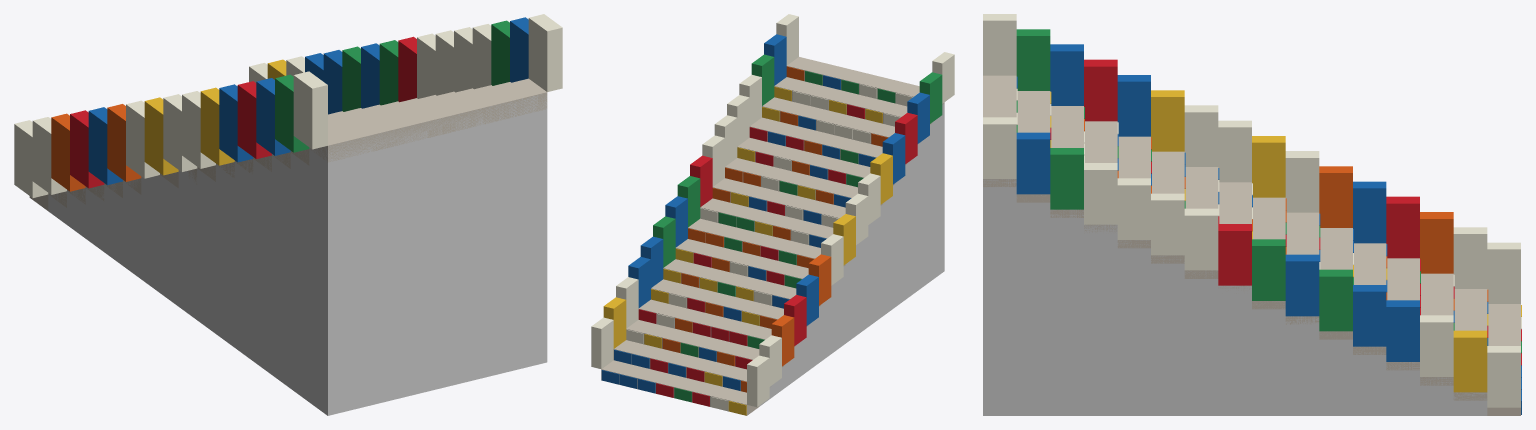
File: escalera_azulejos.glb
The picture shows the model from 3 angles, left to right: view 1: azimuth 30°, elevation 25°; view 2: azimuth 150°, elevation 25°; view 3: azimuth 270°, elevation 25°; orthographic projection. The views are drawn at different scales.
Visible parts, largest first — view 1: COL_15, escalera_azulejos_Malla, COL_14, COL_13, COL_12, COL_11, COL_10, COL_9, COL_8, COL_7, COL_6, COL_5 (+3 smaller); view 2: escalera_azulejos_Malla, COL_15, COL_14, COL_13, COL_12, COL_11, COL_10, COL_9, COL_8, COL_7, COL_6, COL_5 (+2 smaller); view 3: escalera_azulejos_Malla, COL_15, COL_14, COL_13, COL_12, COL_11, COL_10, COL_9, COL_8, COL_7, COL_6, COL_5 (+4 smaller).
Boxes of the visible parts, bbox=[...] form: COL_15: bbox=[309, 93, 547, 415]; escalera_azulejos_Malla: bbox=[14, 14, 562, 210]; COL_14: bbox=[290, 150, 309, 401]; COL_13: bbox=[272, 153, 290, 388]; COL_12: bbox=[253, 156, 271, 374]; COL_11: bbox=[234, 159, 253, 360]; COL_10: bbox=[216, 163, 234, 347]; COL_9: bbox=[197, 165, 215, 333]; COL_8: bbox=[178, 169, 197, 319]; COL_7: bbox=[160, 172, 178, 306]; COL_6: bbox=[141, 175, 159, 292]; COL_5: bbox=[123, 179, 141, 278]; escalera_azulejos_Malla: bbox=[591, 14, 954, 415]; COL_15: bbox=[789, 66, 944, 279]; COL_14: bbox=[774, 86, 932, 288]; COL_13: bbox=[766, 107, 919, 298]; COL_12: bbox=[755, 128, 907, 307]; COL_11: bbox=[739, 147, 894, 316]; COL_10: bbox=[725, 167, 882, 325]; COL_9: bbox=[726, 190, 870, 334]; COL_8: bbox=[711, 210, 857, 343]; COL_7: bbox=[699, 230, 845, 352]; COL_6: bbox=[677, 248, 833, 361]; COL_5: bbox=[663, 268, 820, 370]; escalera_azulejos_Malla: bbox=[983, 14, 1521, 415]; COL_15: bbox=[983, 179, 1016, 415]; COL_14: bbox=[1016, 195, 1050, 415]; COL_13: bbox=[1050, 209, 1083, 415]; COL_12: bbox=[1084, 224, 1117, 415]; COL_11: bbox=[1117, 240, 1150, 415]; COL_10: bbox=[1151, 255, 1184, 415]; COL_9: bbox=[1184, 270, 1218, 415]; COL_8: bbox=[1218, 285, 1251, 415]; COL_7: bbox=[1252, 301, 1285, 415]; COL_6: bbox=[1285, 316, 1319, 415]; COL_5: bbox=[1319, 331, 1352, 415].
Bounding box in the file's own units: 3.88 × 4.9 × 8.01.
